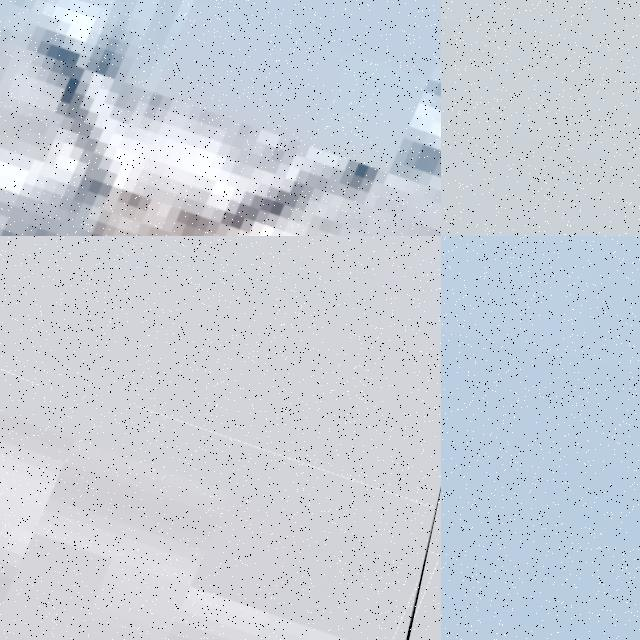drone: (0, 351, 441, 640), (0, 0, 441, 236)
